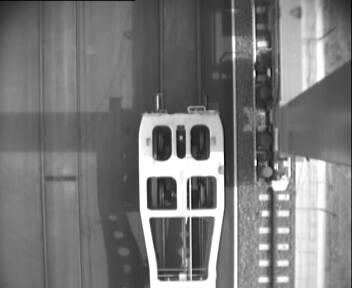twist_lock_2: (149, 122, 213, 162)
